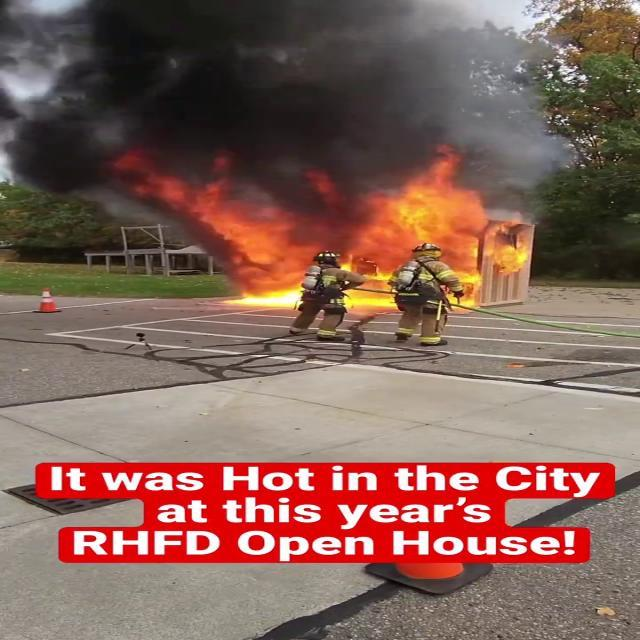Fire: (188, 176, 528, 308)
Smoke: (1, 0, 598, 211)
